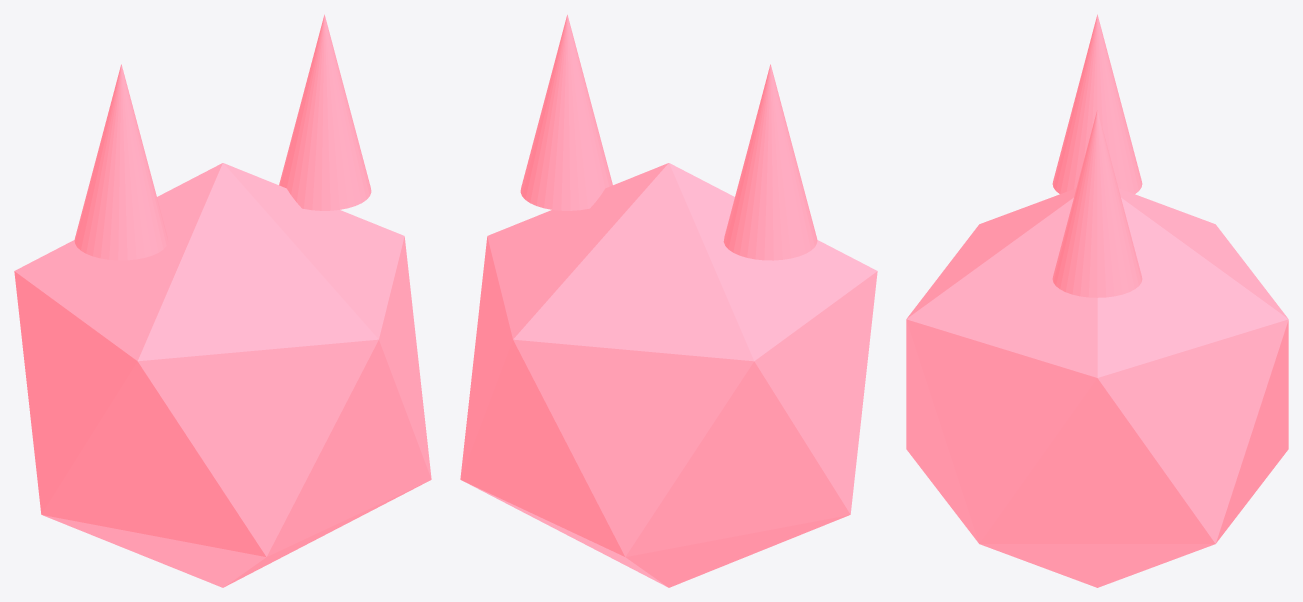
File: fallen.glb
The picture shows the model from 3 angles, left to right: view 1: azimuth 30°, elevation 25°; view 2: azimuth 150°, elevation 25°; view 3: azimuth 270°, elevation 25°; orthographic projection. The views are drawn at different scales.
Visible parts, largest first — view 1: Icosphere, Cone, Cone.001; view 2: Icosphere, Cone, Cone.001; view 3: Icosphere, Cone.001, Cone.
Boxes of the visible parts, x1=… form: Icosphere: x1=14, y1=163, x2=431, y2=587; Cone: x1=74, y1=64, x2=168, y2=260; Cone.001: x1=279, y1=14, x2=371, y2=210; Icosphere: x1=460, y1=163, x2=877, y2=587; Cone: x1=723, y1=64, x2=817, y2=260; Cone.001: x1=520, y1=14, x2=612, y2=210; Icosphere: x1=906, y1=188, x2=1288, y2=587; Cone.001: x1=1052, y1=109, x2=1142, y2=297; Cone: x1=1052, y1=14, x2=1142, y2=193.
Bounding box in the file's own units: 1.07 × 1.55 × 1.02.
